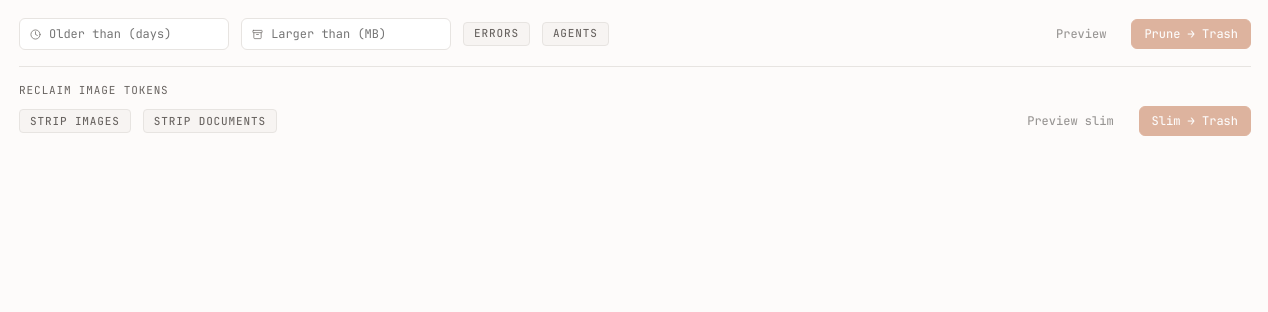
Test: CleanupPane › toggling Strip images does NOT wipe a valid prune preview
Type "7" into the number field named "Older than days" at (134, 34), box [49,26,218,42]
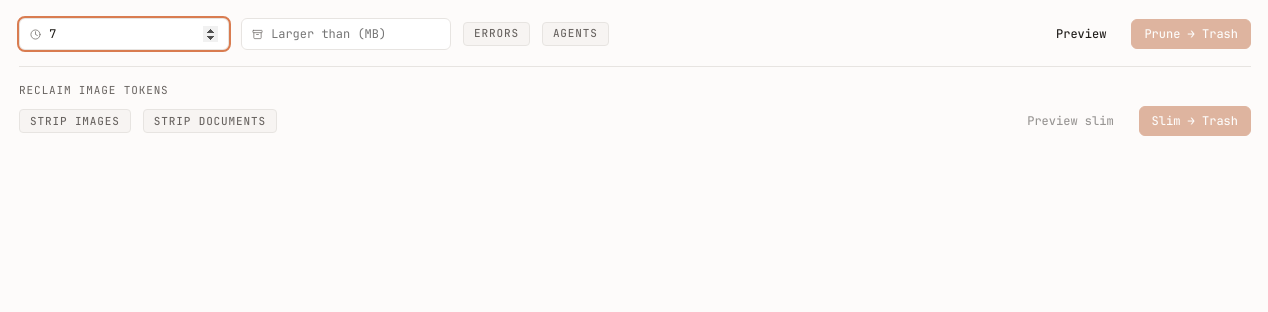
Click the button "Preview" at (1081, 34), box [1043,19,1119,49]
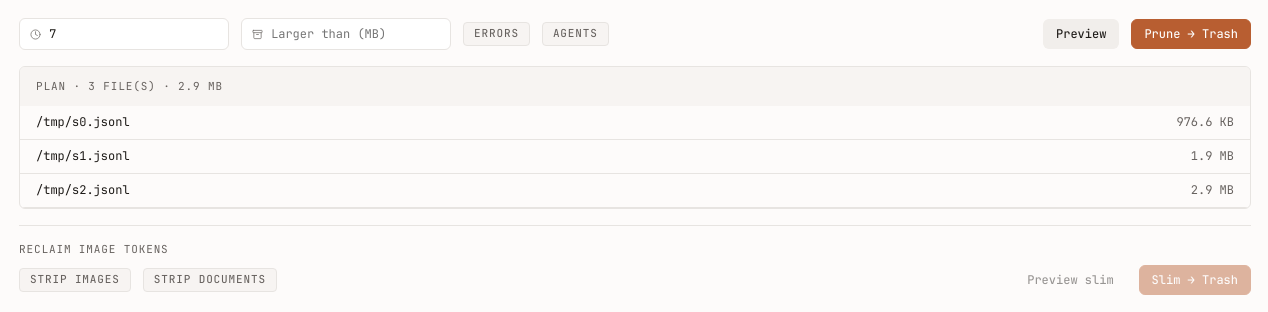
expect the element with test id "prune-preview" is shown: met, box [19,66,1251,209]
Toggle a slim flag. The prune preview must survive.
Click the switch labelled "Strip images" at (75, 280), box [19,268,131,292]
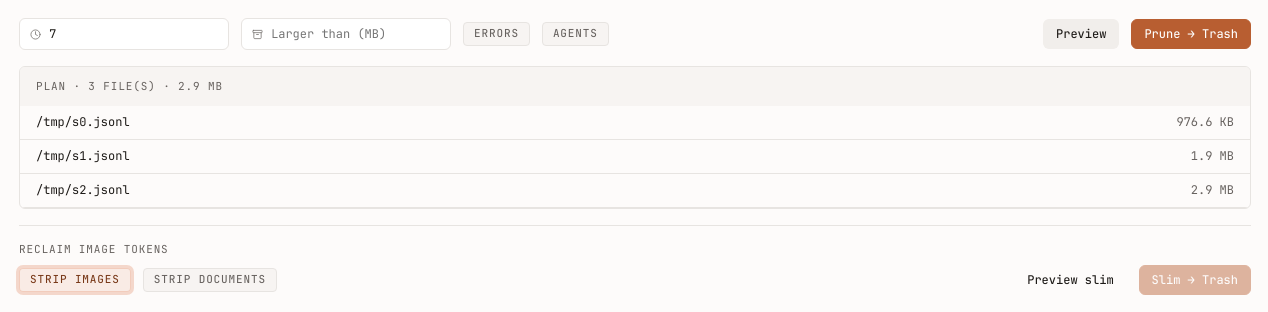
expect the element with test id "prune-preview" is shown: met, box [19,66,1251,209]
Type "0" into the number field named "Older than days" at (134, 34), box [49,26,218,42]
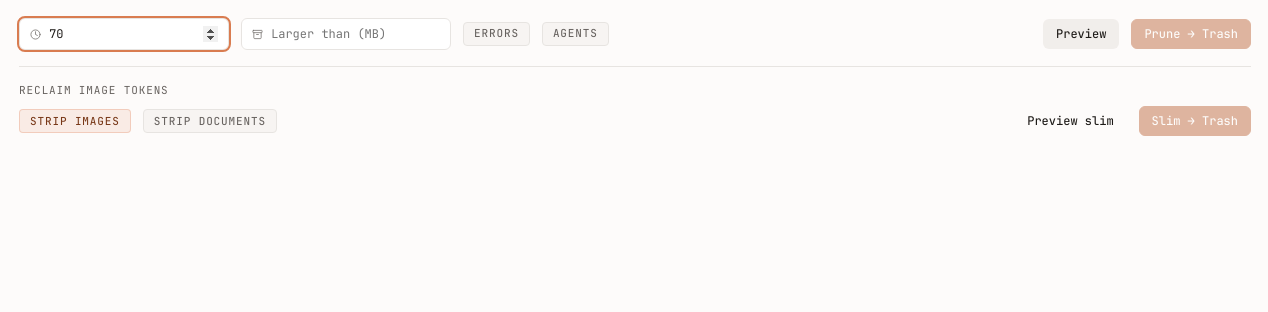
expect the element with test id "prune-preview" is gone: met
